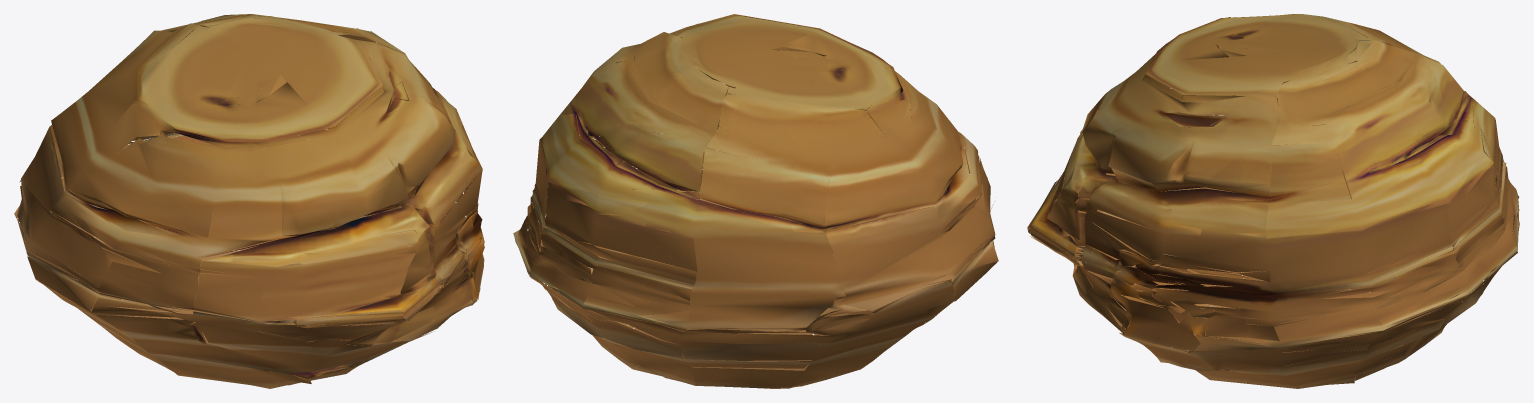
File: desert_boulder_single.glb
The picture shows the model from 3 angles, left to right: view 1: azimuth 30°, elevation 25°; view 2: azimuth 150°, elevation 25°; view 3: azimuth 270°, elevation 25°; orthographic projection.
Parts seen in each view (by area): view 1: desert_boulder_single; view 2: desert_boulder_single; view 3: desert_boulder_single.
Boxes of the visible parts, x1,y1,x2,y2 form: desert_boulder_single: [14, 14, 484, 388]; desert_boulder_single: [513, 14, 998, 388]; desert_boulder_single: [1027, 14, 1519, 388].
Bounding box in the file's own units: 1.46 × 1.01 × 1.49.
1 material, 1 textured.
